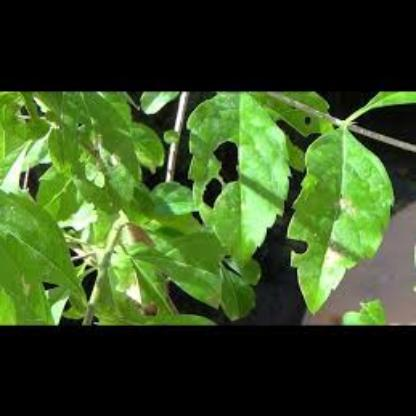agujero: (209, 137, 242, 181), (201, 174, 225, 206), (288, 235, 310, 254), (301, 115, 315, 124)
